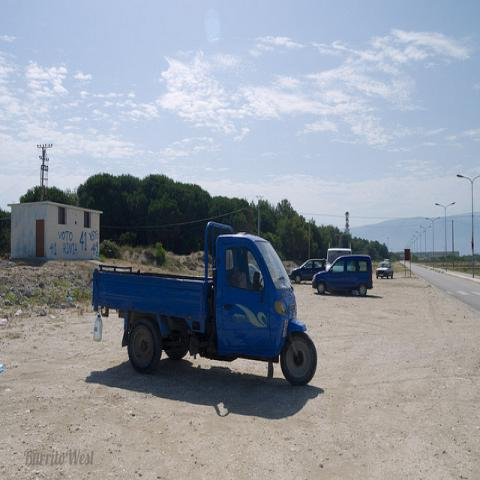car: (312, 253, 372, 296), (288, 257, 328, 285), (376, 261, 393, 278)
truck: (312, 254, 374, 298), (325, 246, 354, 271)
